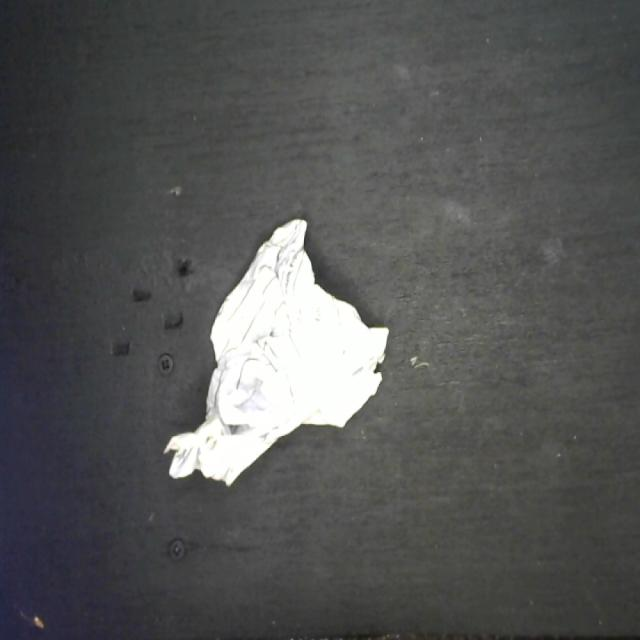biodegradable: (157, 214, 393, 492)
